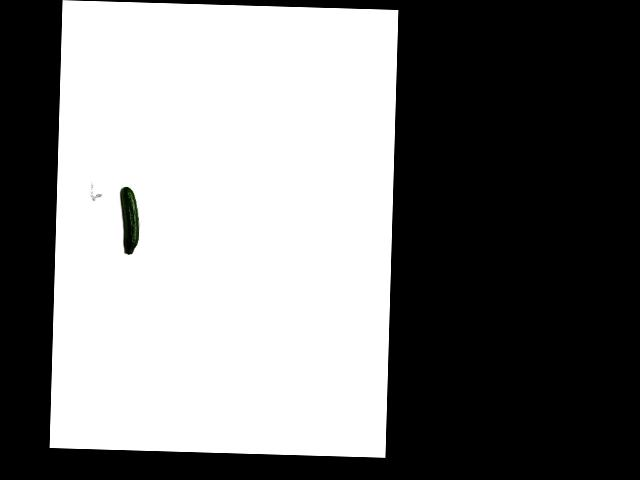cucumber: (119, 186, 139, 254)
